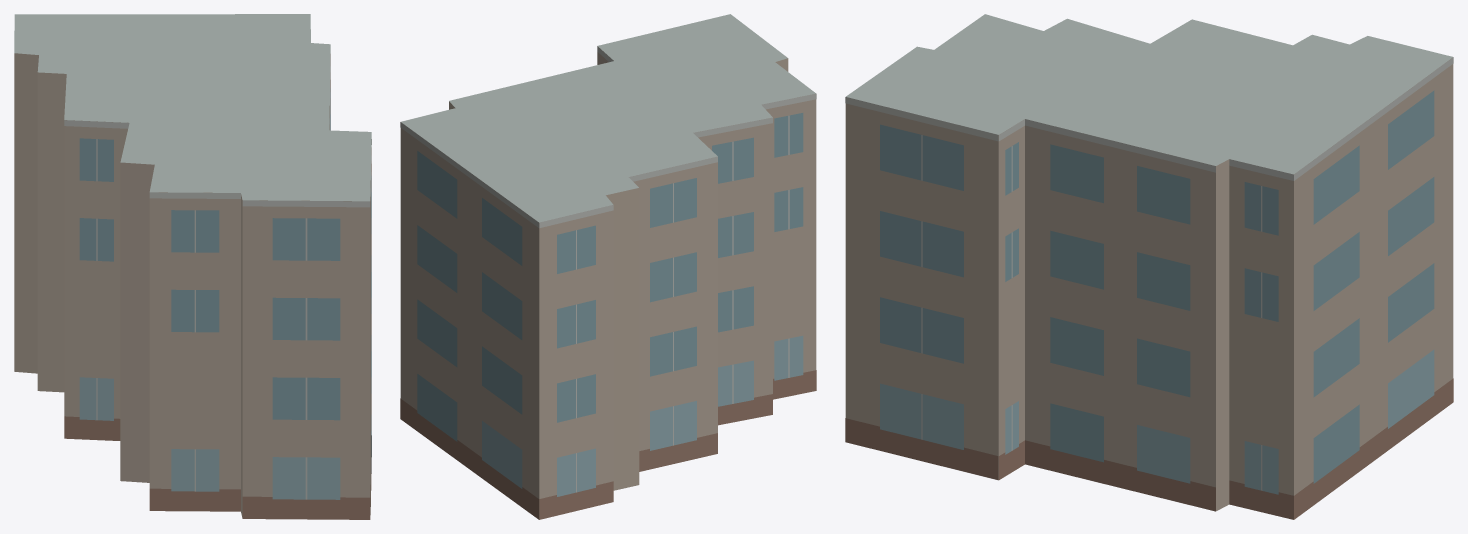
Rendered from survey-upis-32670571.glb.
3 views of the same model, side by side, from view 1: azimuth 30°, elevation 25°; view 2: azimuth 150°, elevation 25°; view 3: azimuth 270°, elevation 25° (orthographic). The views are drawn at different scales.
Parts seen in each view (by area): view 1: survey-upis-32670571.tmp; view 2: survey-upis-32670571.tmp; view 3: survey-upis-32670571.tmp.
Part boxes in pixels (bbox=[...]): survey-upis-32670571.tmp: bbox=[14, 14, 371, 519]; survey-upis-32670571.tmp: bbox=[400, 14, 816, 519]; survey-upis-32670571.tmp: bbox=[845, 14, 1453, 519].
Size of the model in its own units: 12.76 by 12.8 by 20.43.
